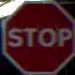Stop: (1, 2, 74, 74)
